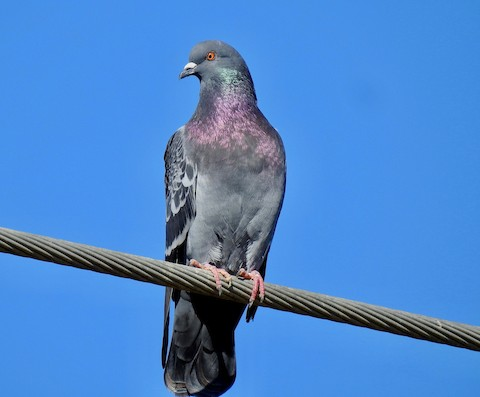pigeon: (149, 38, 290, 387)
